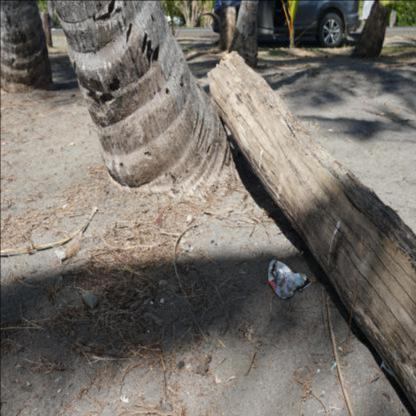Other plastic: (157, 202, 170, 228)
Plastic bag - wrapper: (268, 257, 310, 299)
